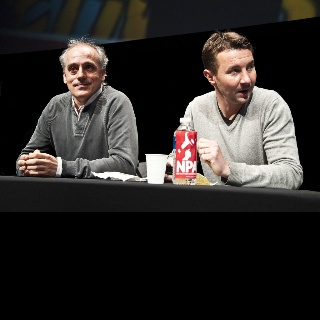without_mask: (216, 48, 256, 103), (64, 45, 101, 98)
